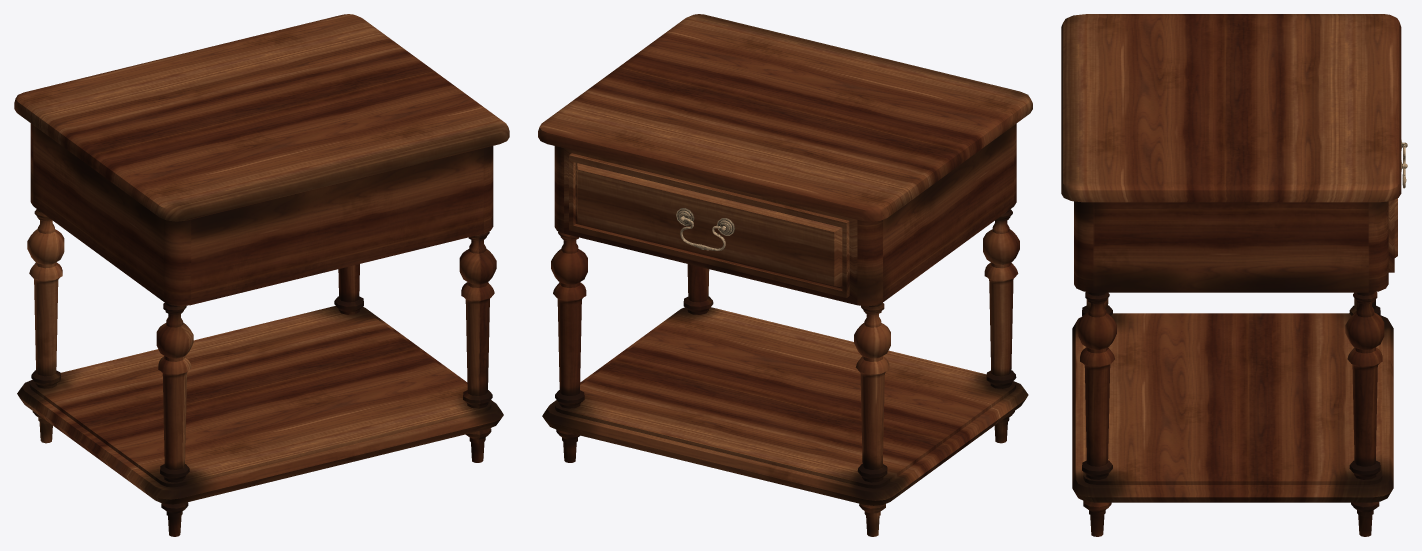
The picture shows the model from 3 angles, left to right: view 1: azimuth 30°, elevation 25°; view 2: azimuth 150°, elevation 25°; view 3: azimuth 270°, elevation 25°; orthographic projection. The views are drawn at different scales.
Parts seen in each view (by area): view 1: Mesinha; view 2: Mesinha; view 3: Mesinha.
Part boxes in pixels (box(x1,y1,x2,y2)): Mesinha: box(14, 14, 509, 536); Mesinha: box(538, 14, 1032, 536); Mesinha: box(1061, 14, 1407, 536).
Size of the model in its own units: 0.7967 by 0.7434 by 0.6549.
Materials: 2 (2 with a texture image).
